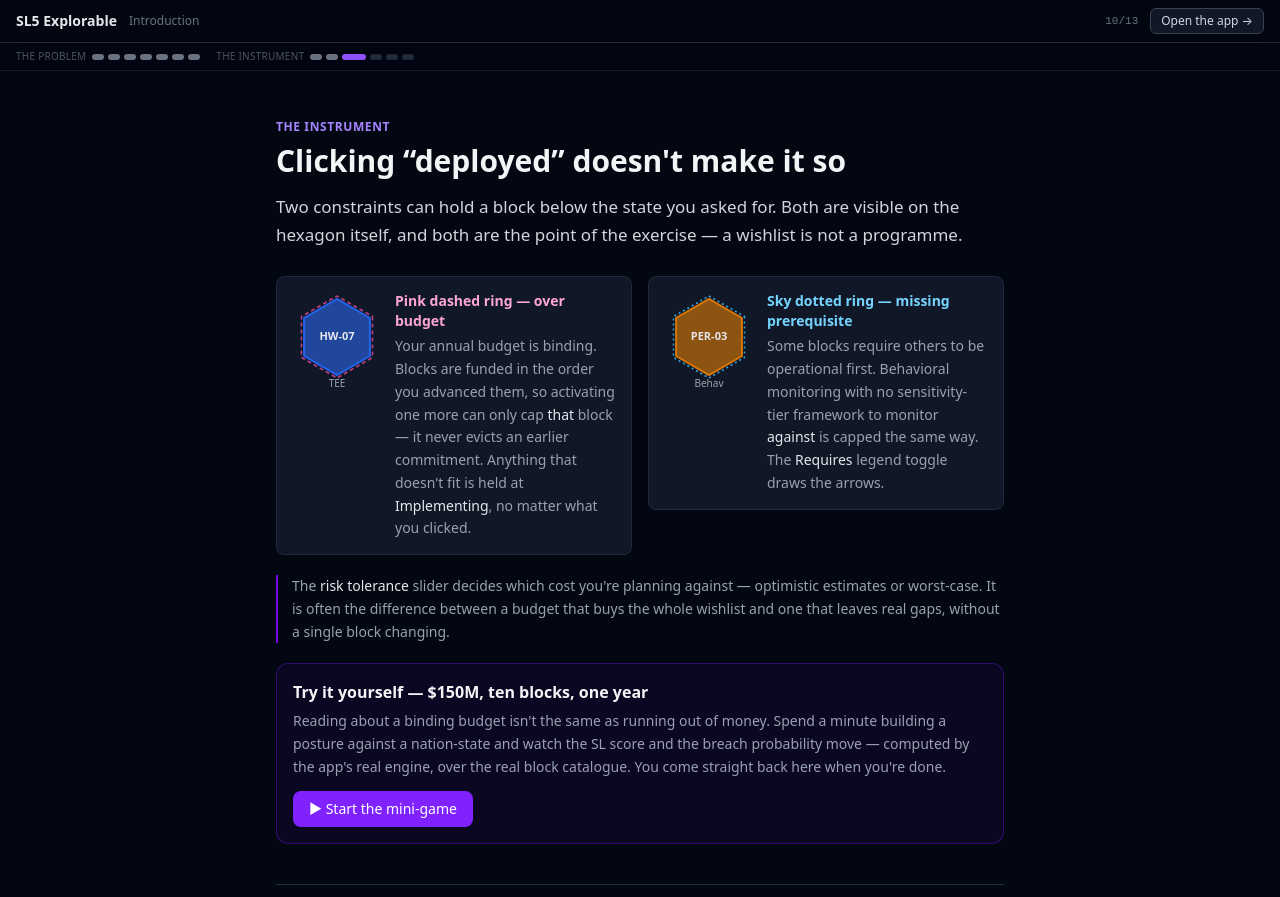
Test case: playing it › shows the dependency cap and clears it when the prerequisite is bought
Click the button "▶ Start the mini-game".
click(383, 808)  # box [293, 790, 473, 826]
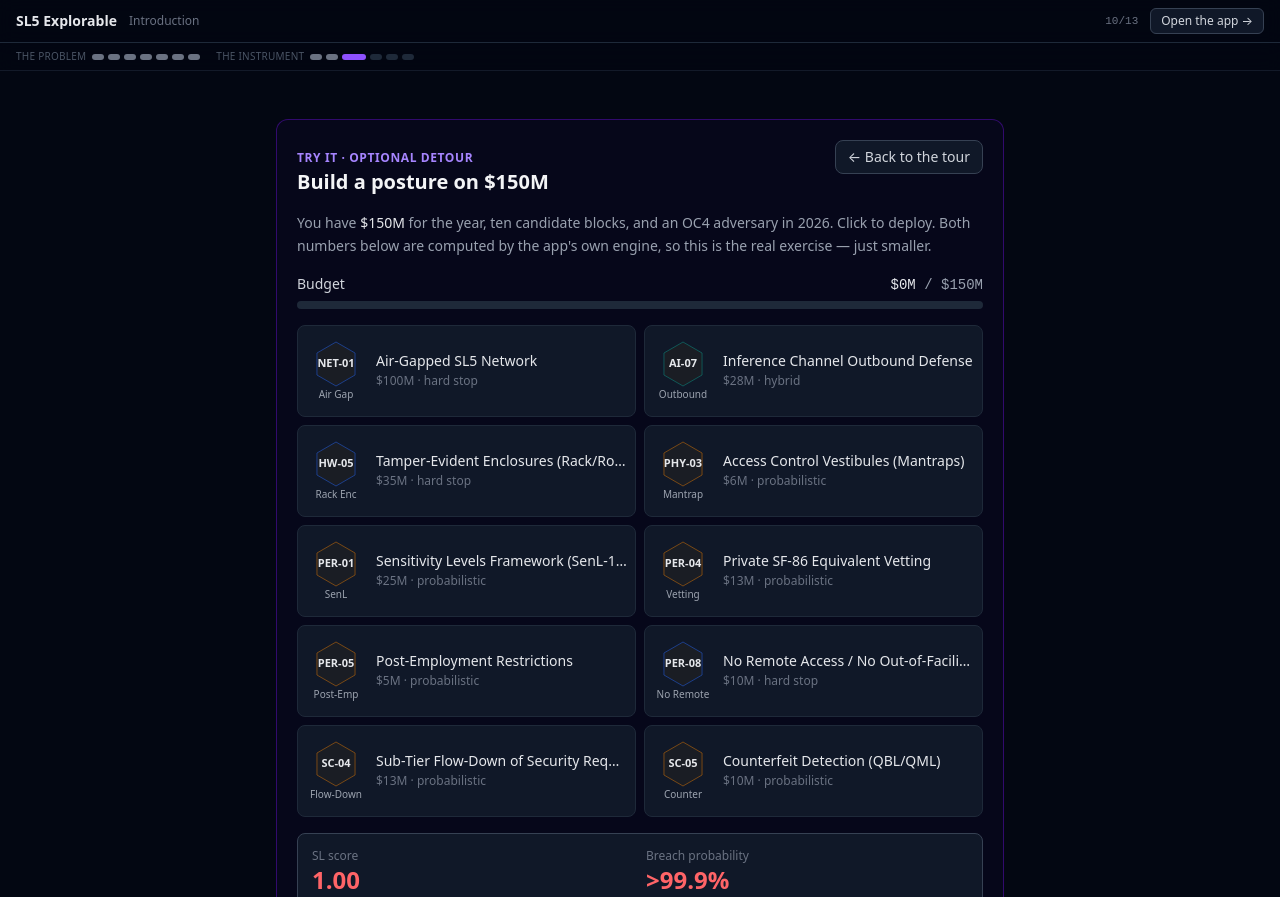
Check: the text "Budget" is shown, box [297, 274, 345, 294]
Click the text "Private SF-86 Equivalent Vetting".
click(827, 560)  # box [723, 551, 931, 570]
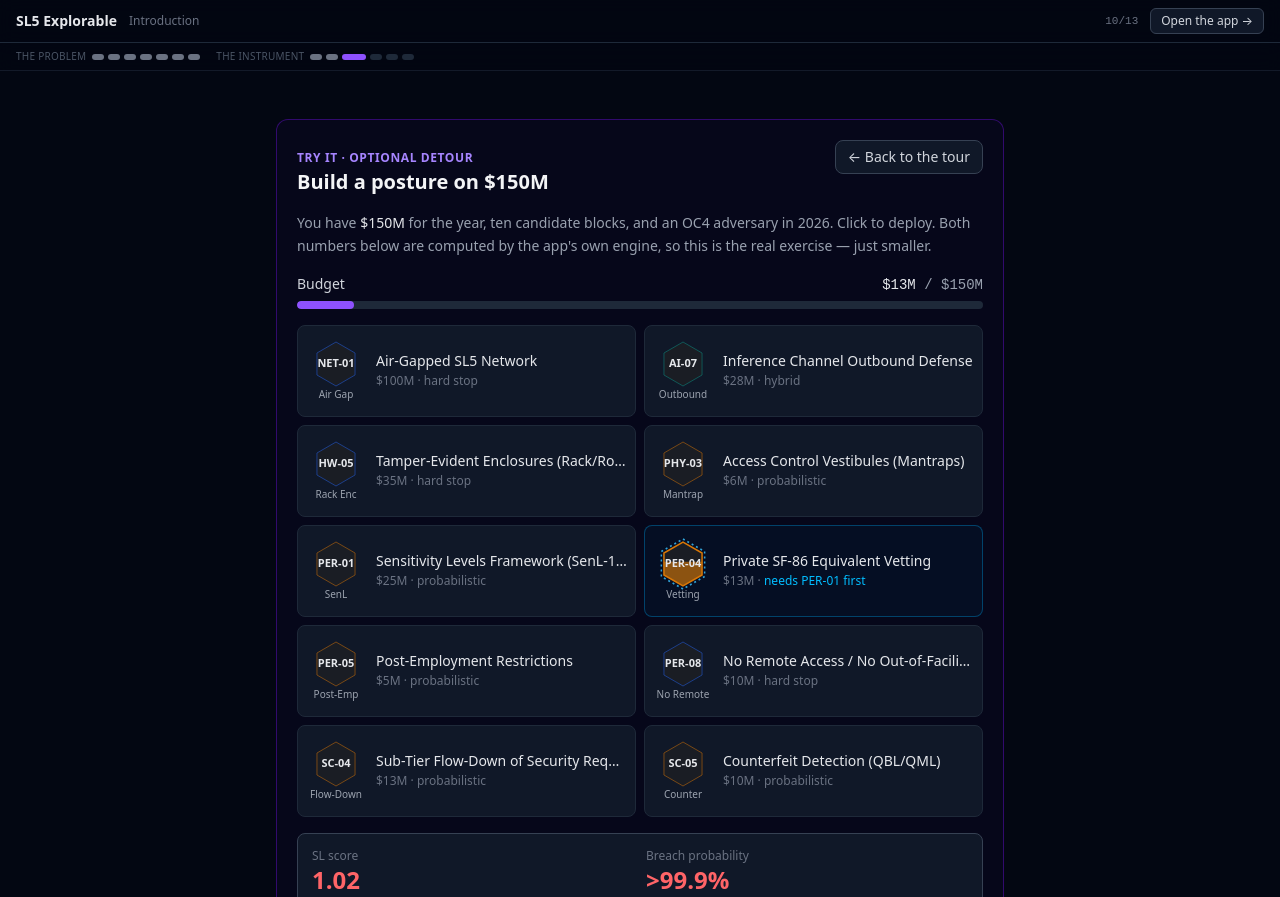
Check: the text "needs PER-01 first" is shown, box [764, 572, 866, 589]
Click the text "Sensitivity Levels Framework (SenL-1 through SenL-5)".
click(502, 561)  # box [376, 551, 627, 571]
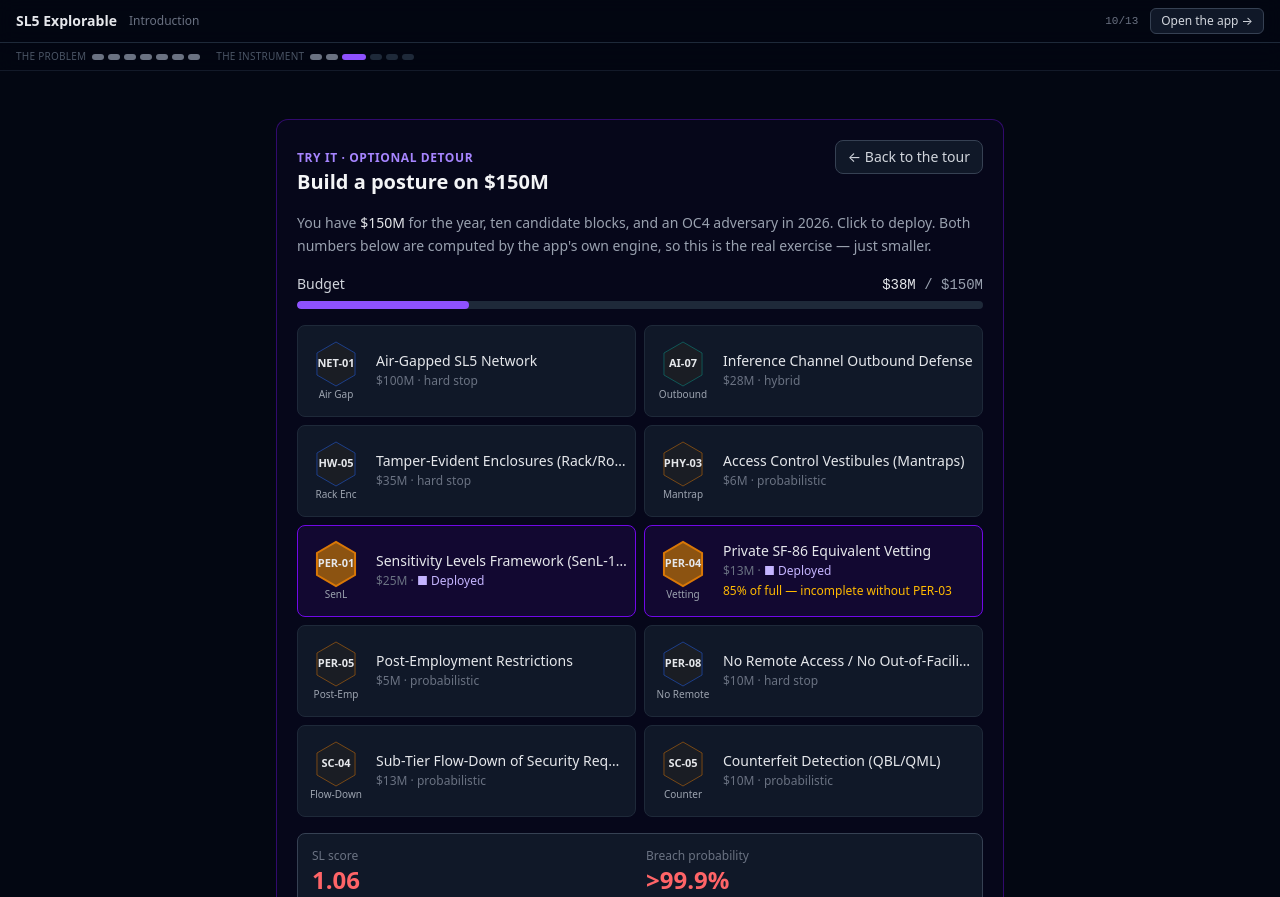
Check: the button "needs PER-01 first" is gone
